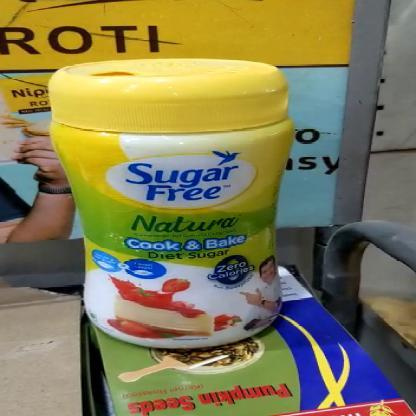SUGAR FREE NATURA DIET SUGAR 80GM: (46, 56, 294, 352)
